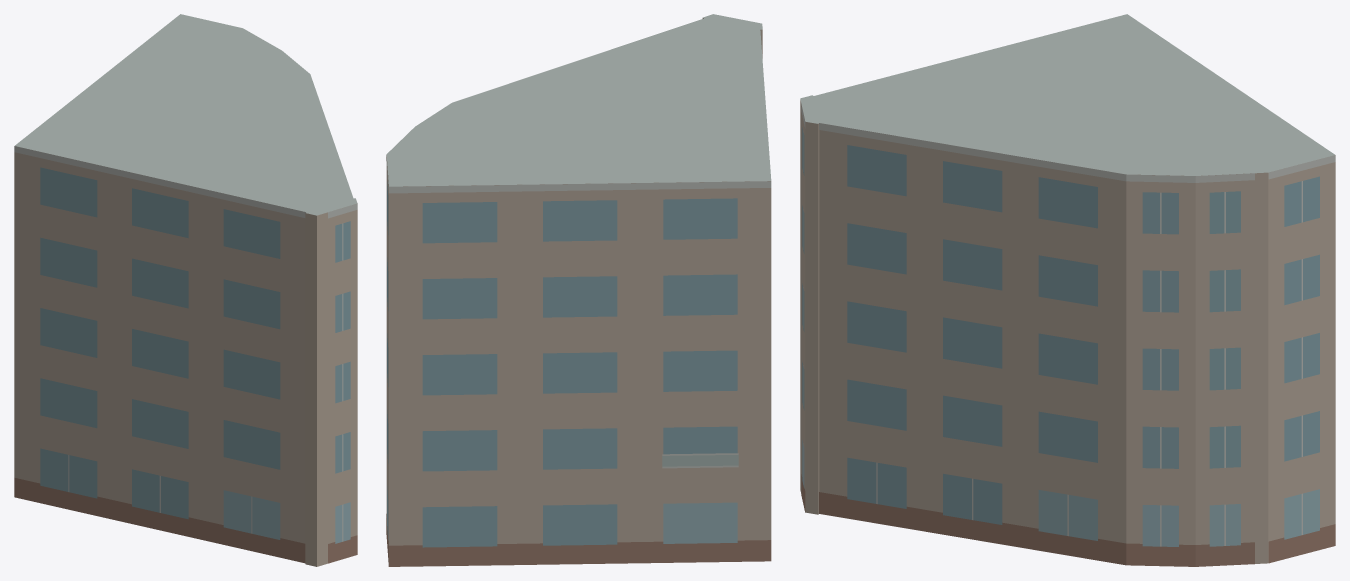
Rendered from survey-upis-32862721.glb.
3 views of the same model, side by side, from view 1: azimuth 30°, elevation 25°; view 2: azimuth 150°, elevation 25°; view 3: azimuth 270°, elevation 25° (orthographic). The views are drawn at different scales.
Visible parts, largest first — view 1: survey-upis-32862721.tmp; view 2: survey-upis-32862721.tmp; view 3: survey-upis-32862721.tmp.
Boxes of the visible parts, x1,y1,x2,y2 form: survey-upis-32862721.tmp: (14, 14, 357, 566); survey-upis-32862721.tmp: (386, 14, 771, 566); survey-upis-32862721.tmp: (800, 14, 1335, 566).
Bounding box in the file's own units: 12.19 × 13.7 × 17.01.
